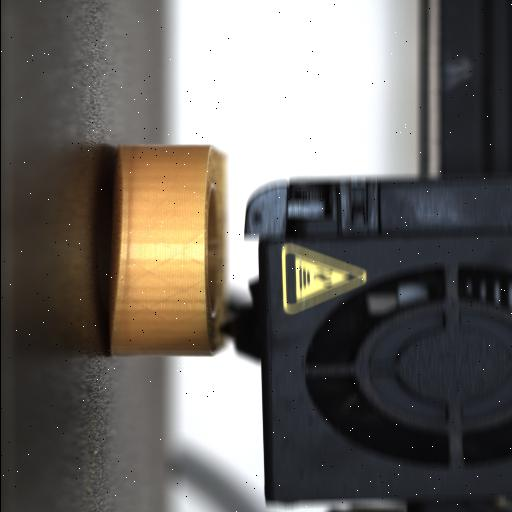warp: (107, 149, 131, 354)
